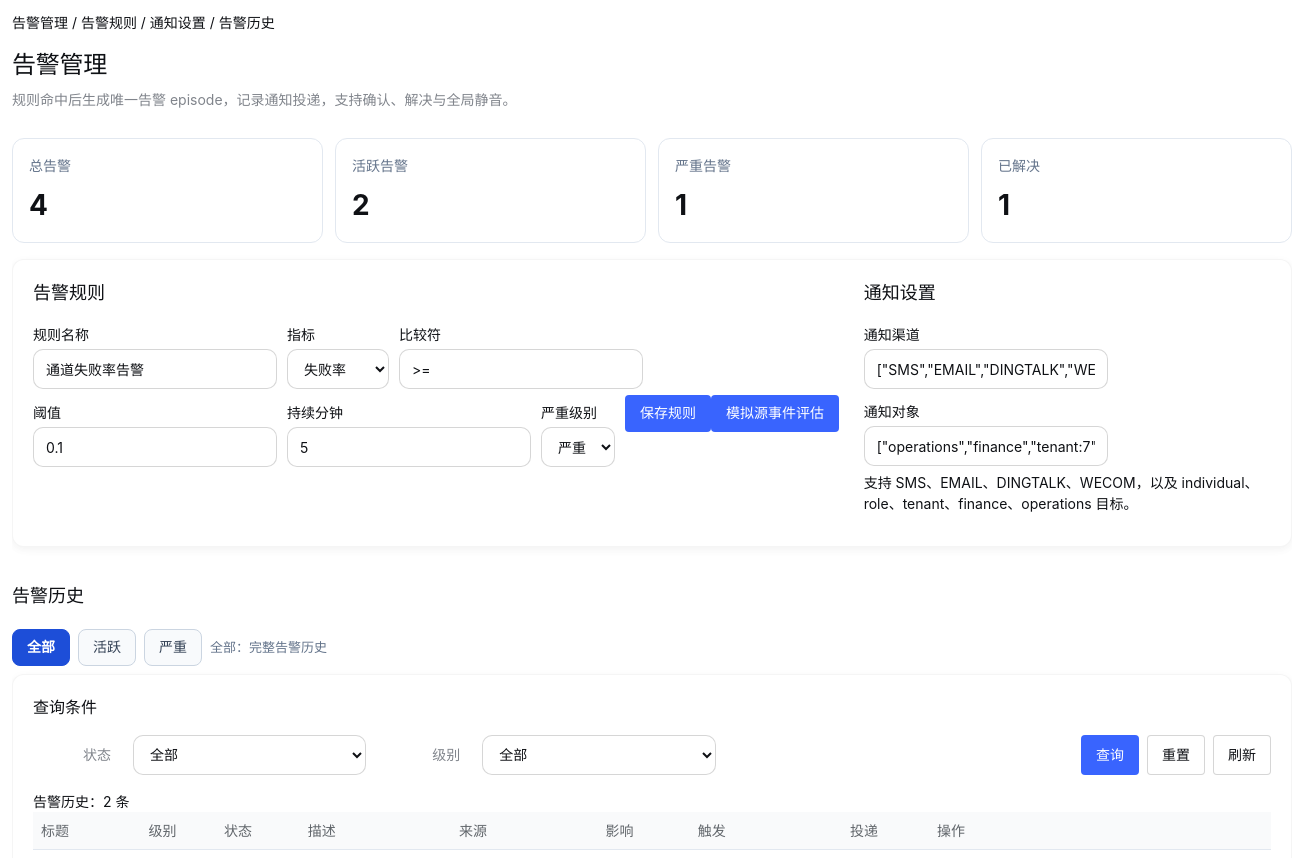
Phase 35 alert engine console UI › issue #92: renders alert scope tabs as a tablist with one selected state and narrows rows per scope
Expected: the element with test id "admin-alert-engine-dashboard-alert-tabs" shows "完整告警历史", [210,639,327,655]
Note: ACTIVE keeps only status-ACTIVE rows and updates selection.
Click the tab with test id "admin-alert-engine-scope-tab-ACTIVE". click: (107, 647)
box: [78,629,136,666]
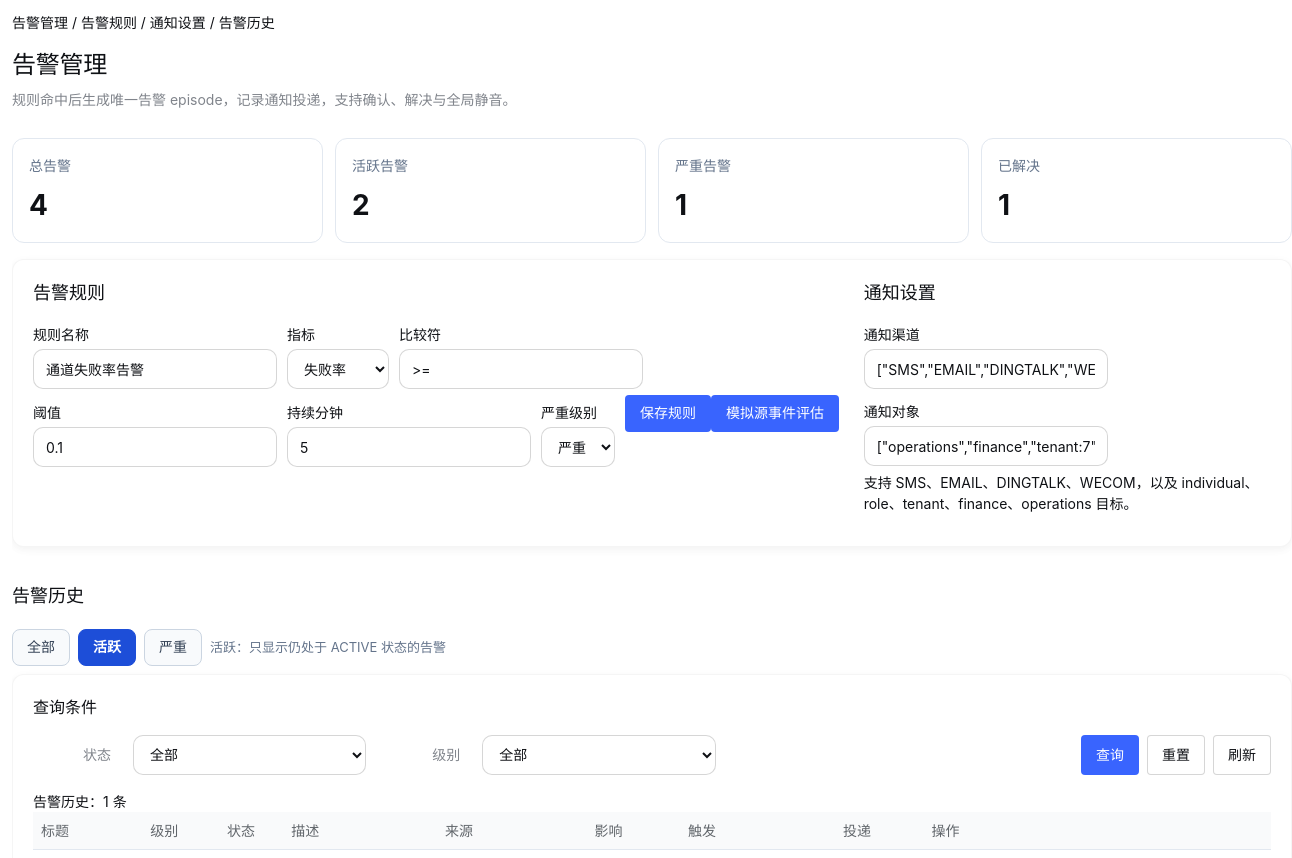
Now the element with test id "admin-alert-engine-dashboard-alert-tabs" shows "只显示仍处于 ACTIVE 状态", box [210,639,446,655]
Note: SEVERE keeps only HIGH/CRITICAL rows.
Click the tab with test id "admin-alert-engine-scope-tab-SEVERE". click: (173, 647)
box: [144,629,202,666]
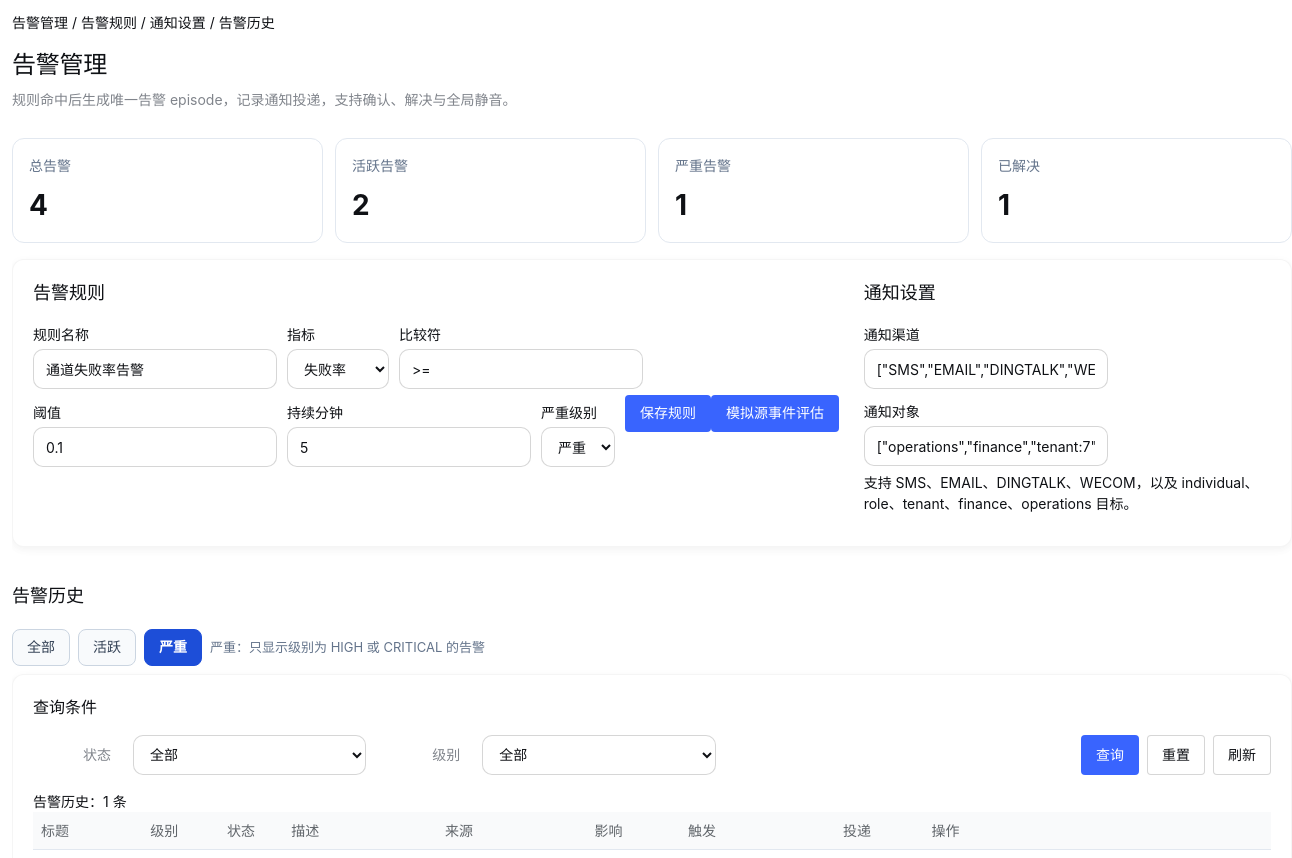
Now the element with test id "admin-alert-engine-dashboard-alert-tabs" shows "级别为 HIGH 或 CRITICAL", box [210,639,485,655]
